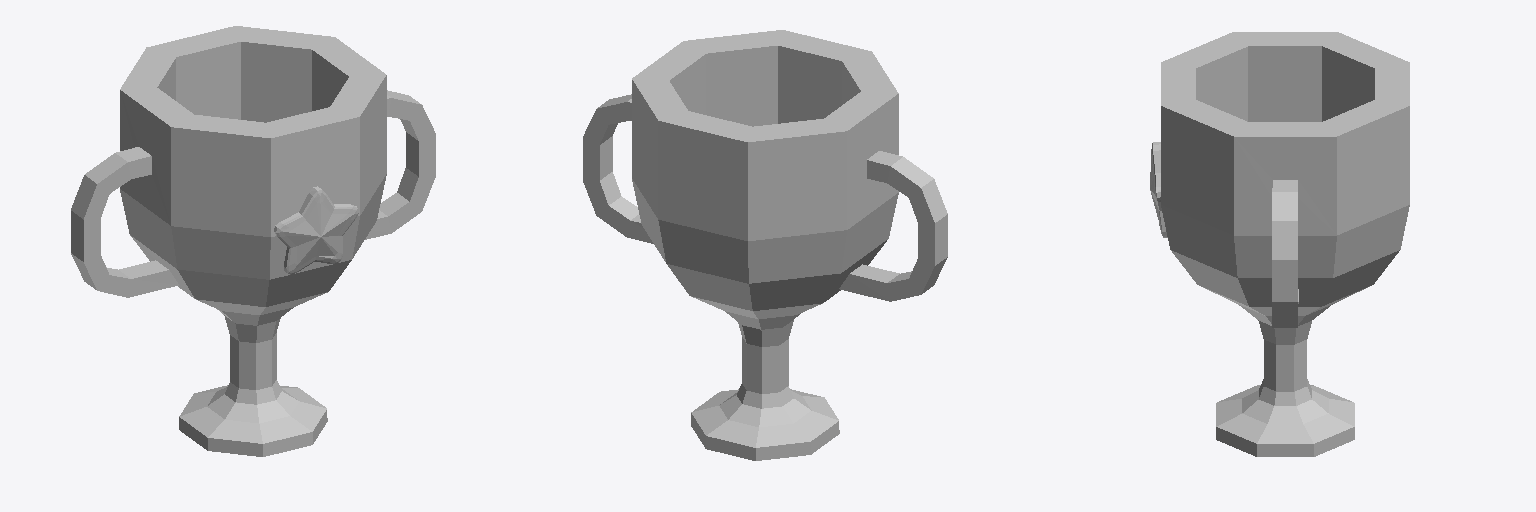
File: Trophy.obj
3 views of the same model, side by side, from view 1: azimuth 30°, elevation 25°; view 2: azimuth 150°, elevation 25°; view 3: azimuth 270°, elevation 25° (orthographic).
Visible parts, largest first — view 1: Trophy; view 2: Trophy; view 3: Trophy.
Part boxes in pixels (x1,y1,x2,y2): Trophy: (71, 26, 435, 456); Trophy: (583, 30, 947, 460); Trophy: (1150, 32, 1409, 456).
Bounding box in the file's own units: 3.02 × 2.81 × 1.93.